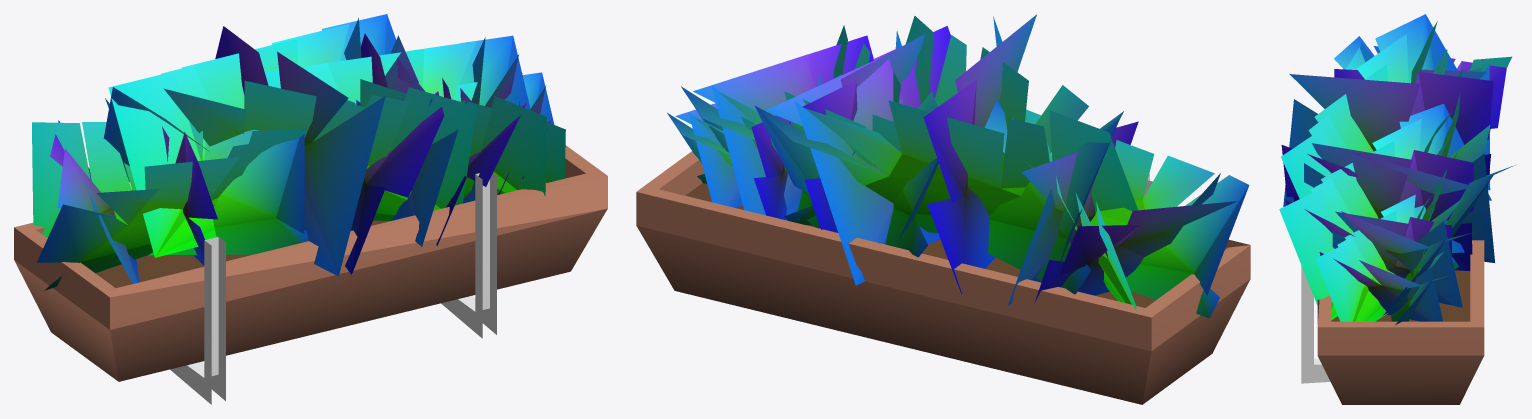
File: flower_box.dae
3 views of the same model, side by side, from view 1: azimuth 30°, elevation 25°; view 2: azimuth 150°, elevation 25°; view 3: azimuth 270°, elevation 25° (orthographic). The views are drawn at different scales.
Parts seen in each view (by area): view 1: flower_box_a40; view 2: flower_box_a40; view 3: flower_box_a40.
Part boxes in pixels (bbox=[...]): flower_box_a40: bbox=[14, 14, 607, 404]; flower_box_a40: bbox=[636, 14, 1250, 404]; flower_box_a40: bbox=[1279, 14, 1516, 404].
Size of the model in its own units: 0.6752 by 0.3079 by 0.347.
